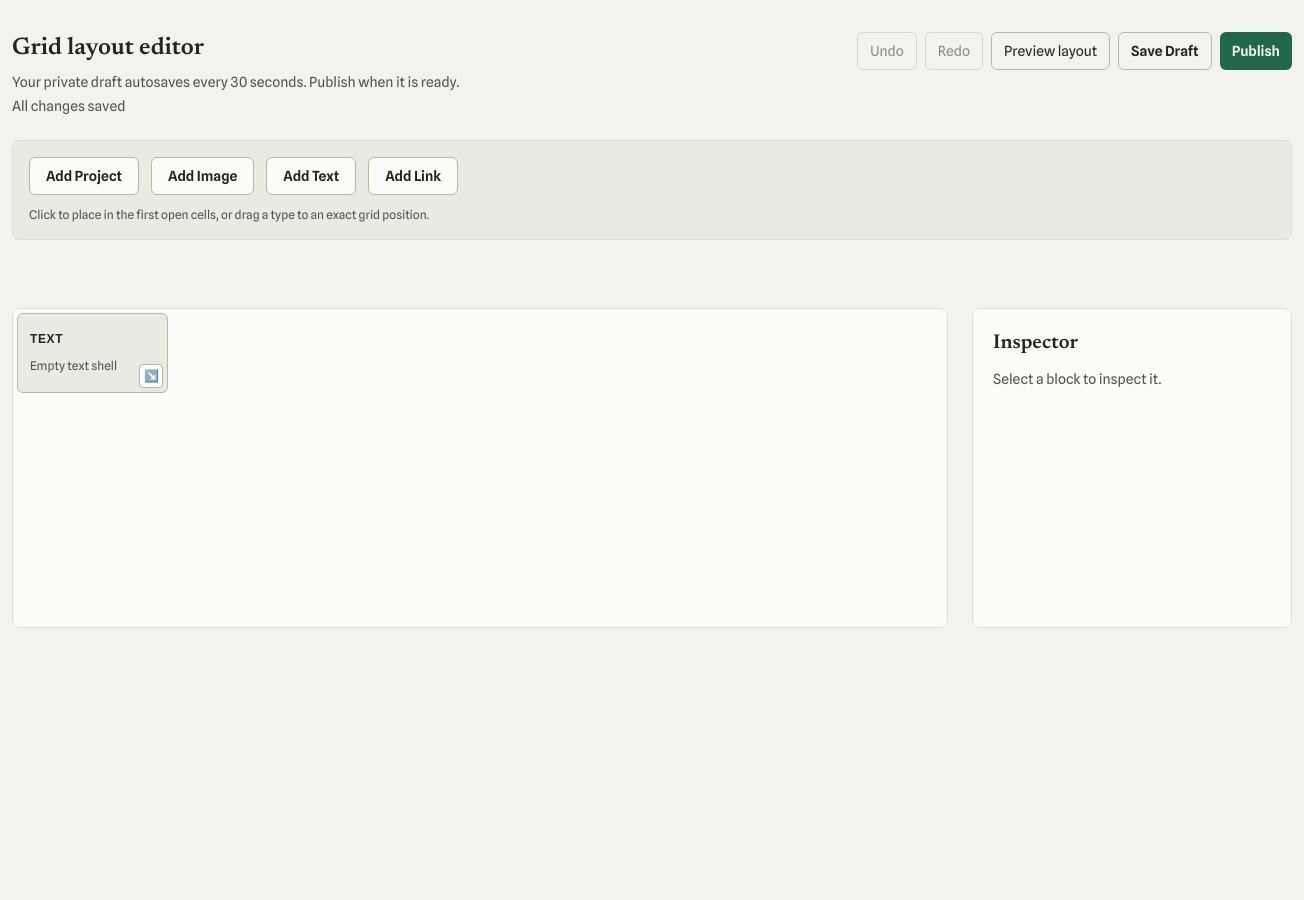
Scenario: GridLayoutEditor placement and layout history › deletes immediately, offers a brief Undo, and supports layout undo/redo
The width and height of the screenshot is (1304, 900).
Click the button with aria-label "select text block remove" at {"x": 92, "y": 353}, box [17,313,168,393]
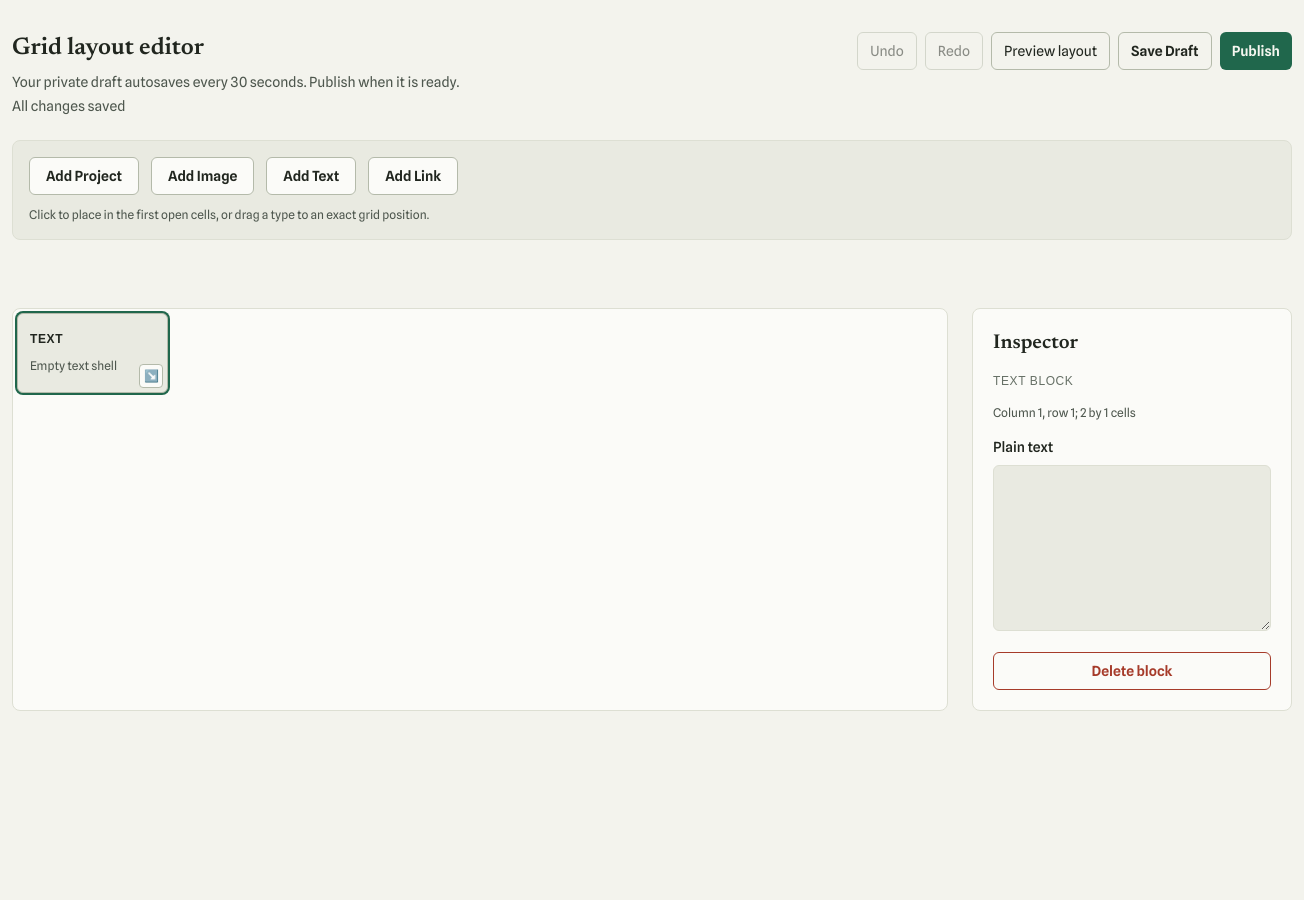
Click the button "Delete block" at {"x": 1132, "y": 671}, box [993,652,1271,690]
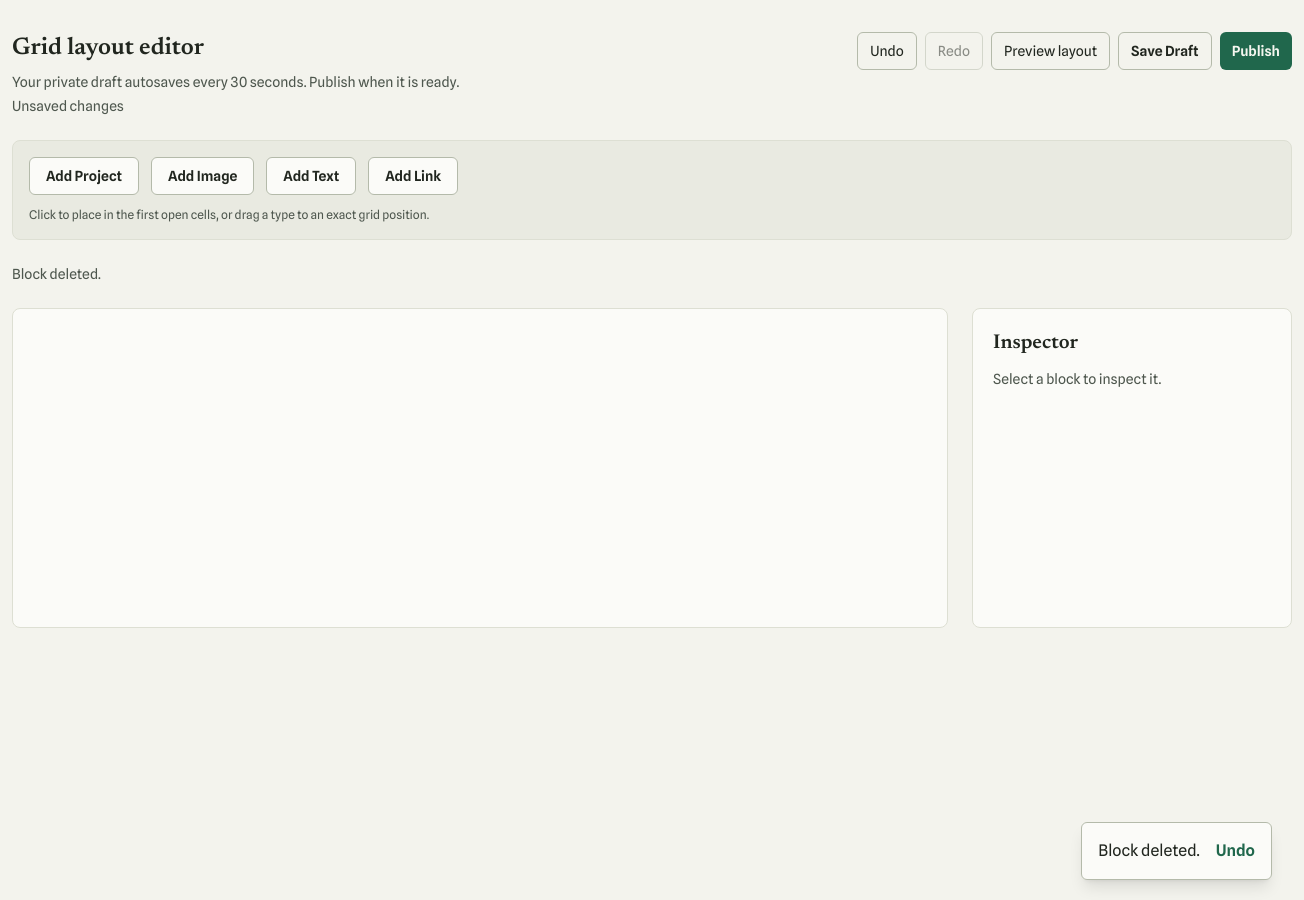
Expected: the text "Block deleted." is shown 2 times, [12,266,101,282]; [1098,839,1200,863]
Result: the text "select text block" is gone
Click the button with aria-label "Undo deletion" at {"x": 1235, "y": 851}, box [1216,839,1255,863]
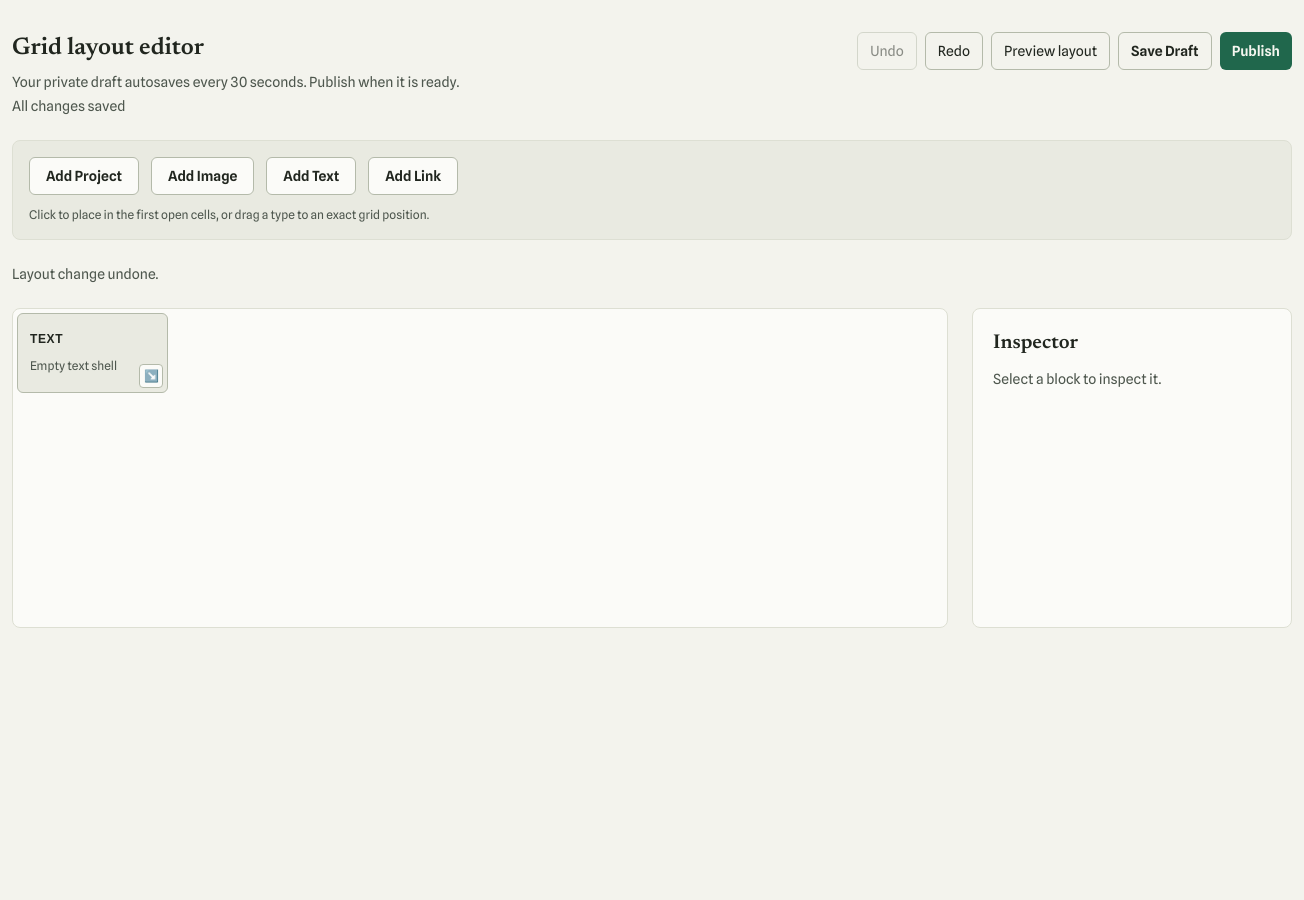
Result: the button with aria-label "select text block remove" is shown at [17,313,168,393]
Click the button with aria-label "Add link block" at {"x": 413, "y": 176}, box [368,157,458,195]
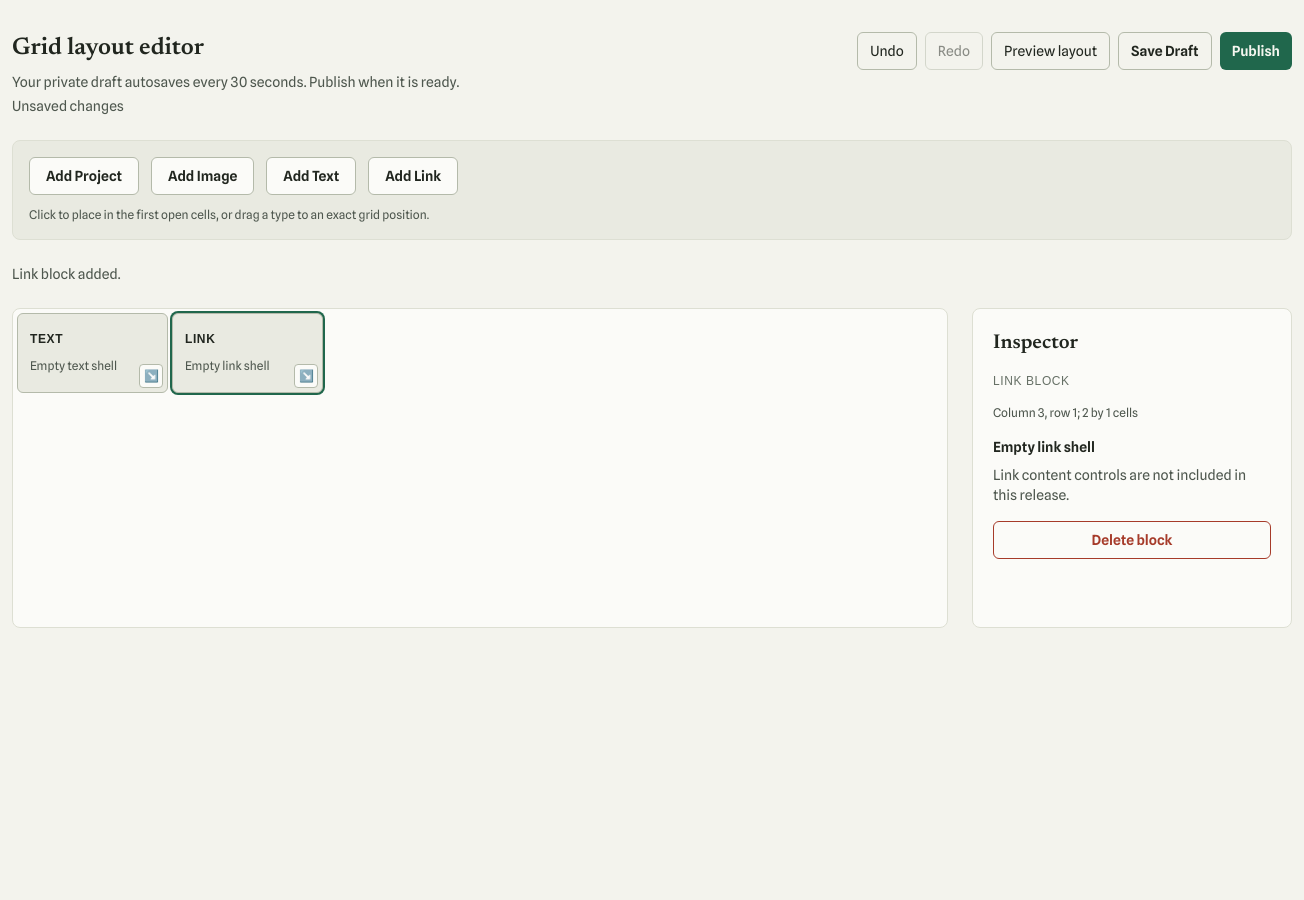
Result: the button with aria-label "select link block" is shown at [172,313,323,393]
Click the button with aria-label "Undo layout change" at {"x": 887, "y": 51}, box [857,32,917,70]
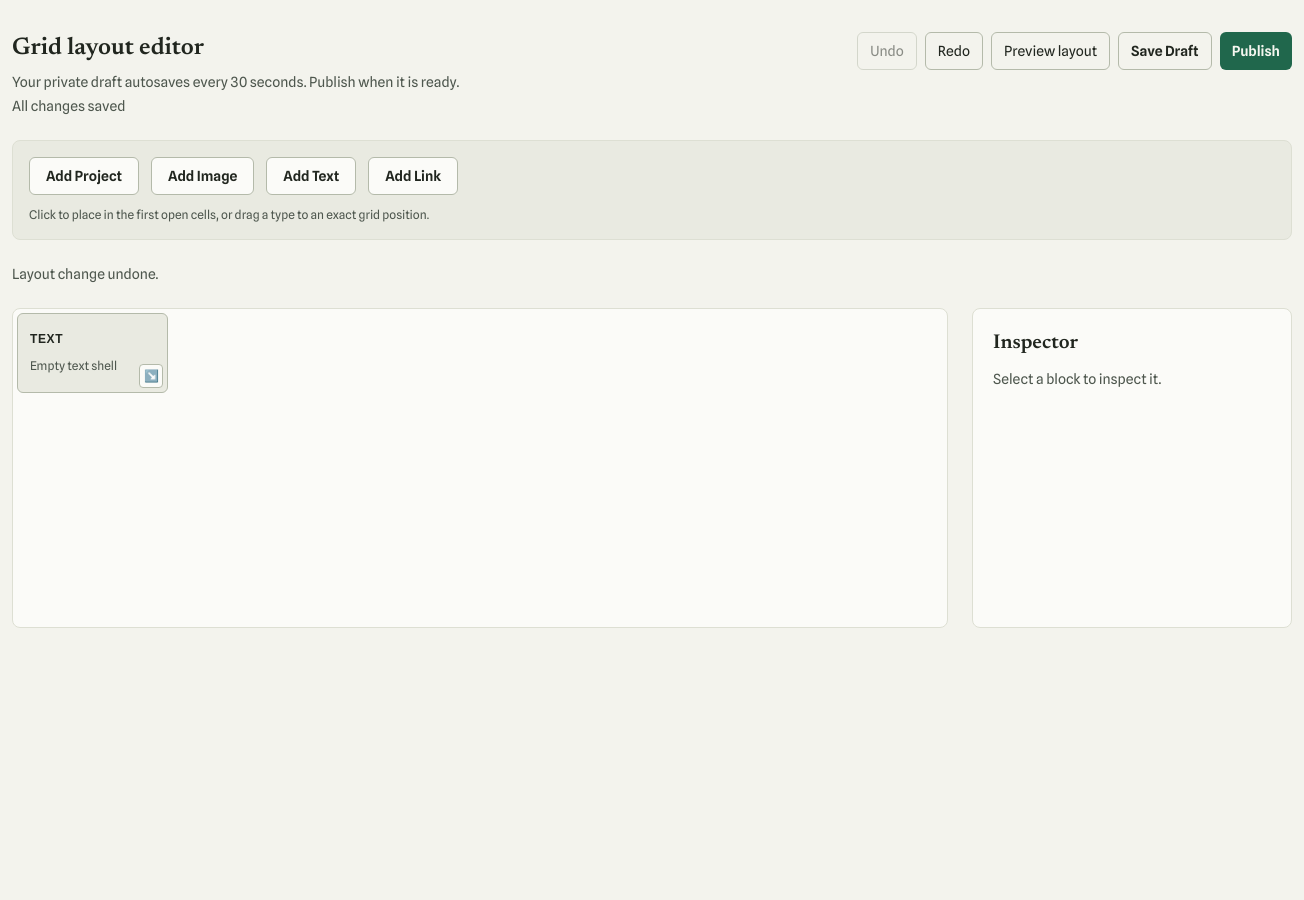
Result: the text "Empty link shell" is gone
Click the button with aria-label "Redo layout change" at {"x": 954, "y": 51}, box [925,32,983,70]
Wait 5000 ms
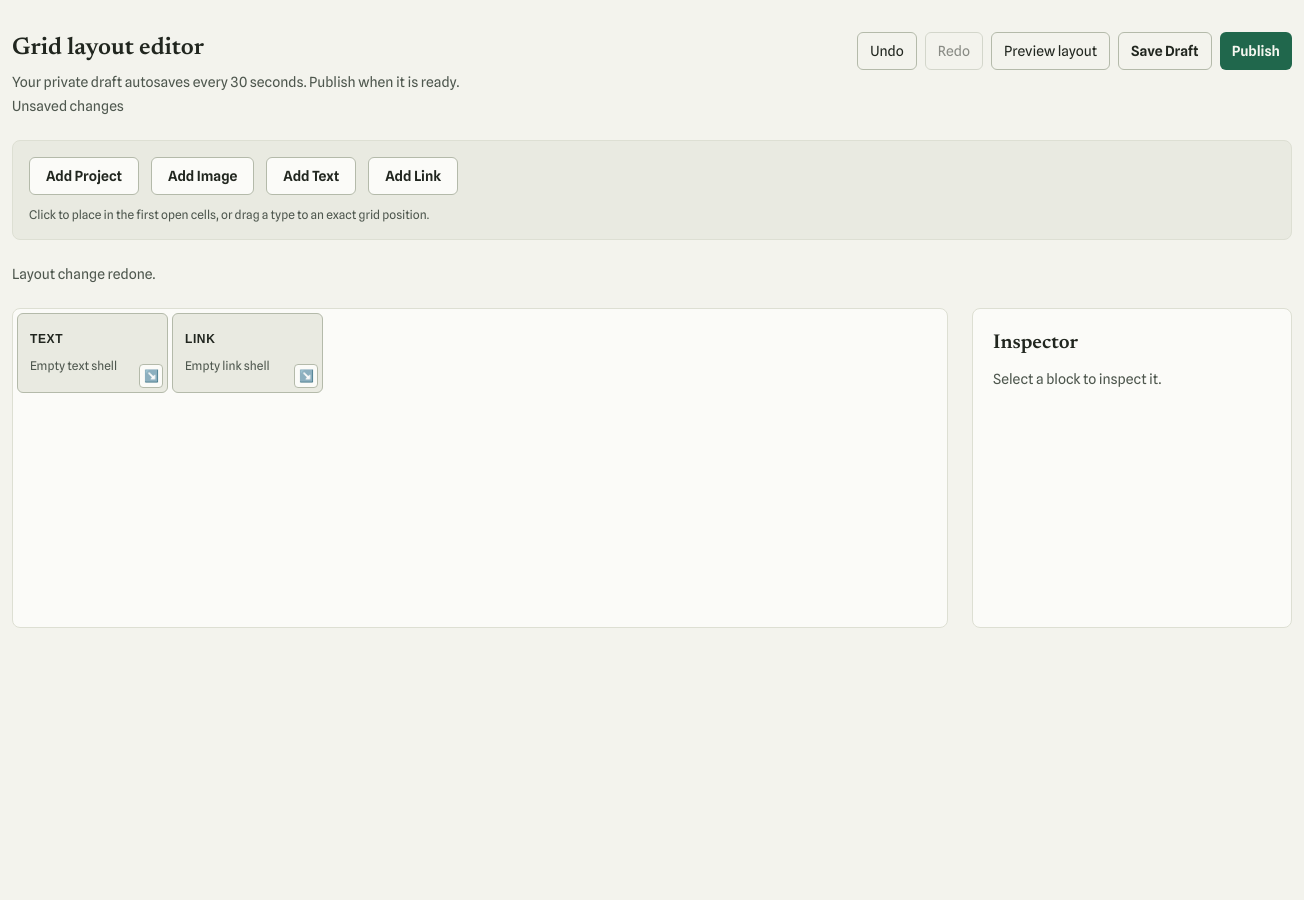
Result: the button with aria-label "select link block" is shown at [172,313,323,393]
